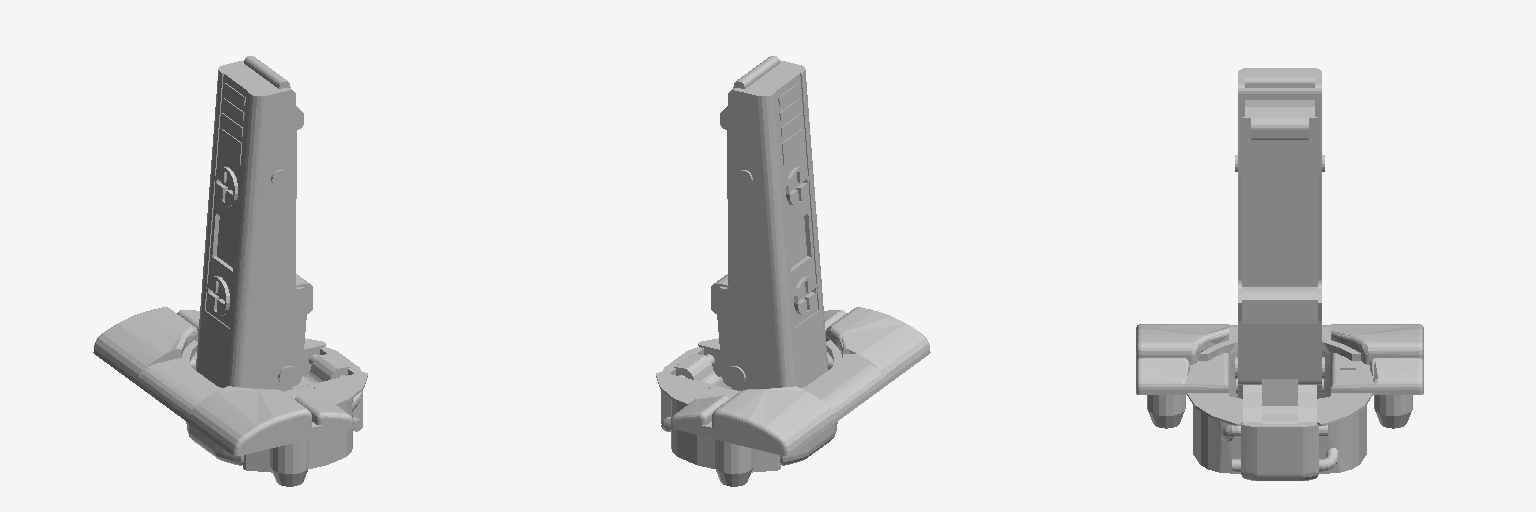
File: hinge.obj
3 views of the same model, side by side, from view 1: azimuth 30°, elevation 25°; view 2: azimuth 150°, elevation 25°; view 3: azimuth 270°, elevation 25° (orthographic).
Parts seen in each view (by area): view 1: bau[number redacted]_v(71B359M01.01); view 2: bau[number redacted]_v(71B359M01.01); view 3: bau[number redacted]_v(71B359M01.01).
Part boxes in pixels (x1,y1,x2,y2): bau[number redacted]_v(71B359M01.01): (93, 56, 367, 486); bau[number redacted]_v(71B359M01.01): (656, 56, 930, 486); bau[number redacted]_v(71B359M01.01): (1136, 68, 1423, 480).
Bounding box in the file's own units: 0.0424 × 0.0807 × 0.057.